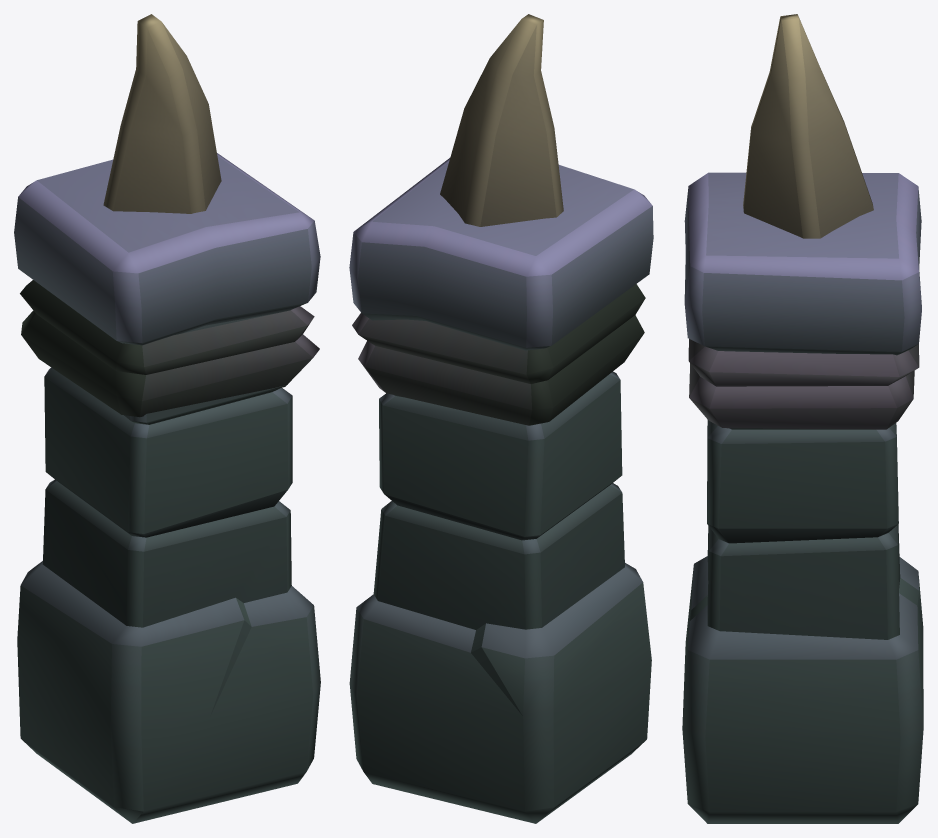
Rendered from undead_column_3.fbx.
3 views of the same model, side by side, from view 1: azimuth 30°, elevation 25°; view 2: azimuth 150°, elevation 25°; view 3: azimuth 270°, elevation 25° (orthographic).
Parts seen in each view (by area): view 1: undead_column_3; view 2: undead_column_3; view 3: undead_column_3.
Boxes of the visible parts, box(x1,y1,x2,y2) form: undead_column_3: box(14, 14, 320, 823); undead_column_3: box(349, 14, 653, 823); undead_column_3: box(682, 14, 923, 823).
Bounding box in the file's own units: 1.62 × 5.6 × 1.62.
